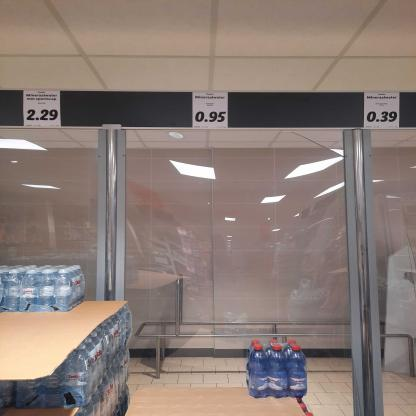prtg: (24, 92, 62, 128), (193, 93, 229, 129), (365, 93, 401, 129)
